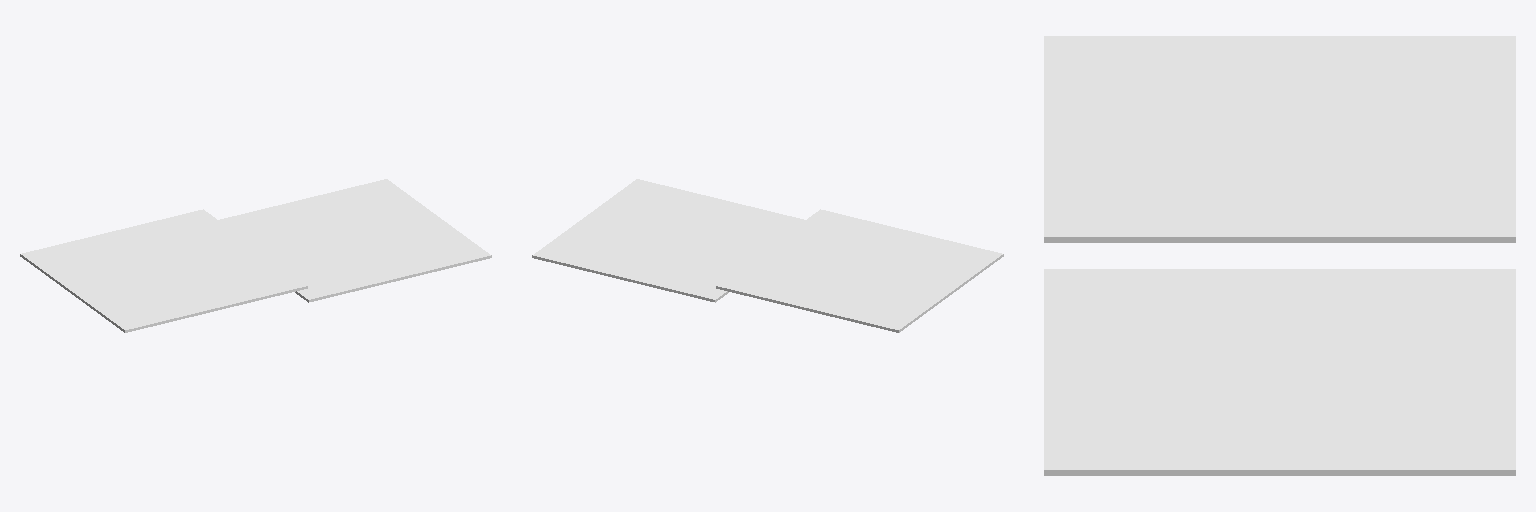
URDF robot description (ground_jump_easy):
<?xml version="1.0" ?>
<robot name="ground_jump_easy">
  <link name="ground"> </link>
  <joint name="ground_start_joint" type="fixed">
    <origin rpy="0 0 0" xyz="0 0 0"/>
    <parent link="ground"/>
    <child link="groundStart"/>
  </joint>
  <link name="groundStart">
    <visual>
      <origin xyz="0 0 0" rpy="0 0 0" />
      <geometry>
        <mesh filename="package://hpp-rbprm-corba/meshes/ground_jump_easyStart.stl"/>
      </geometry>
      <material name="white">
        <color rgba="1 1 1 1"/>
      </material>
    </visual>
    <collision>
      <origin xyz="0 0 0" rpy="0 0 0" />
      <geometry>
        <mesh filename="package://hpp-rbprm-corba/meshes/ground_jump_easyStart.stl"/>
      </geometry>
    </collision>
  </link>
  <joint name="ground_goal_joint" type="fixed">
    <origin rpy="0 0 0" xyz="0 0 0"/>
    <parent link="ground"/>
    <child link="groundGoal"/>
  </joint>
  <link name="groundGoal">
    <visual>
      <origin xyz="0 0 0" rpy="0 0 0" />
      <geometry>
        <mesh filename="package://hpp-rbprm-corba/meshes/ground_jump_lowGoal.stl"/>
      </geometry>
      <material name="white">
        <color rgba="1 1 1 1"/>
      </material>
    </visual>
    <collision>
      <origin xyz="0 0 0" rpy="0 0 0" />
      <geometry>
        <mesh filename="package://hpp-rbprm-corba/meshes/ground_jump_lowGoal.stl"/>
      </geometry>
    </collision>
  </link>
</robot>

--- What the picture shows (computed from the rendered views, not written in the file) ---
3 views of the same robot in one strip: view 1: azimuth 30°, elevation 25°; view 2: azimuth 150°, elevation 25°; view 3: azimuth 270°, elevation 25° (orthographic).
Robot: ground_jump_easy — 3 links, 2 joints (2 fixed); root link ground; default pose: all joints at 0.
Visible links, largest first — view 1: groundStart, groundGoal; view 2: groundStart, groundGoal; view 3: groundStart, groundGoal.
Boxes of the visible links, x1,y1,x2,y2 form: groundStart: [20, 209, 307, 332]; groundGoal: [219, 179, 491, 302]; groundStart: [716, 209, 1003, 332]; groundGoal: [532, 179, 804, 302]; groundStart: [1044, 36, 1515, 242]; groundGoal: [1044, 269, 1515, 475].
Size in the robot's own frame: 13.78 by 6.82 by 0.6086 metres.
Meshes: 2 distinct files referenced, 2 mesh visuals loaded (1 binary STL, 1 ASCII STL).
